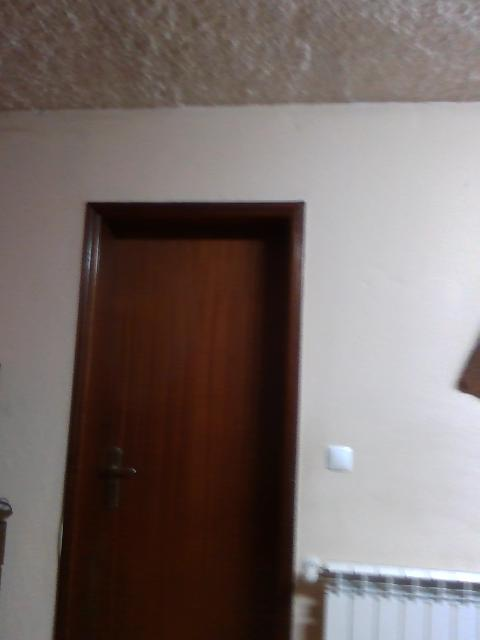door: (71, 221, 293, 640)
